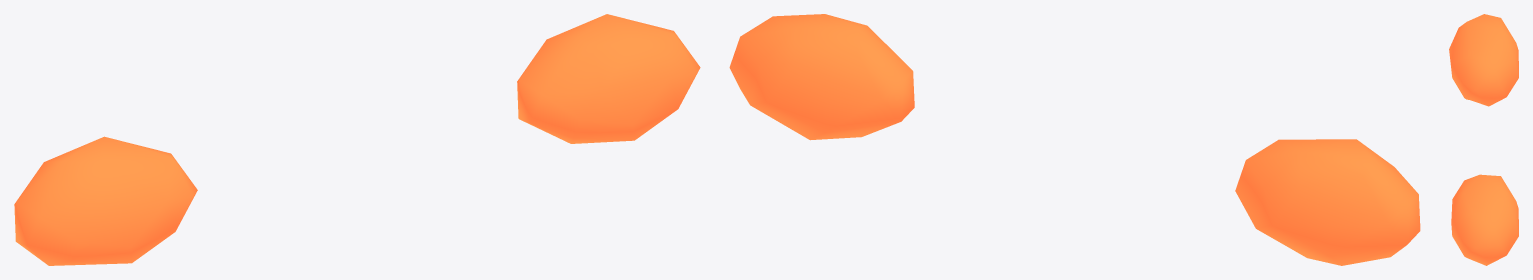
The model's file is armour_eyes.glb.
3 renders of one model, left to right at view 1: azimuth 30°, elevation 25°; view 2: azimuth 150°, elevation 25°; view 3: azimuth 270°, elevation 25°, orthographic. The views are drawn at different scales.
Visible parts, largest first — view 1: armour_eyes; view 2: armour_eyes; view 3: armour_eyes.
Part boxes in pixels (left/top/right/bottom): armour_eyes: left=14, top=14, right=700, bottom=265; armour_eyes: left=729, top=14, right=1420, bottom=265; armour_eyes: left=1449, top=14, right=1518, bottom=265.
Bounding box in the file's own units: 0.0804 × 0.0126 × 0.0112.
